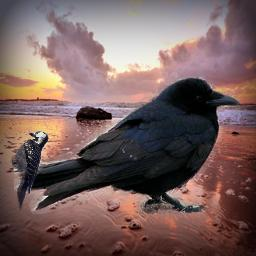Crow: (14, 76, 240, 214)
Woodpecker: (10, 127, 49, 212)
